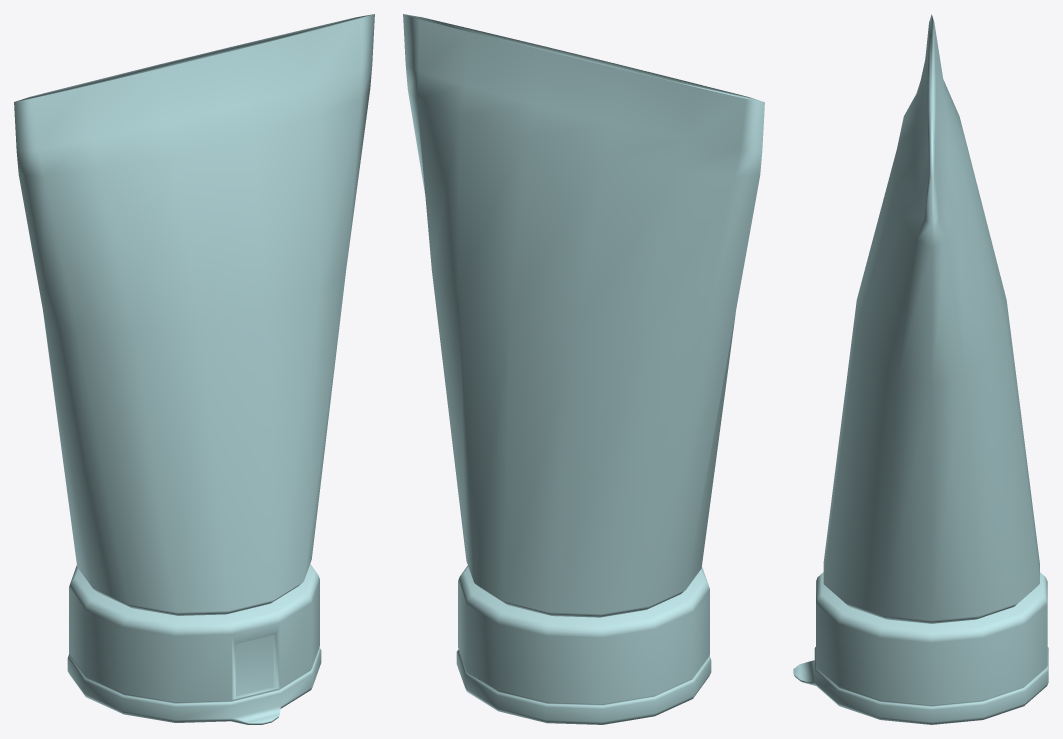
Rendered from face_wash.fbx.
3 views of the same model, side by side, from view 1: azimuth 30°, elevation 25°; view 2: azimuth 150°, elevation 25°; view 3: azimuth 270°, elevation 25° (orthographic). The views are drawn at different scales.
Parts seen in each view (by area): view 1: pCylinder1; view 2: pCylinder1; view 3: pCylinder1.
Part boxes in pixels (<box>): pCylinder1: <box>14,14,374,724</box>; pCylinder1: <box>403,14,764,724</box>; pCylinder1: <box>793,14,1048,724</box>.
Size of the model in its own units: 0.1468 by 0.2387 by 0.0953.
